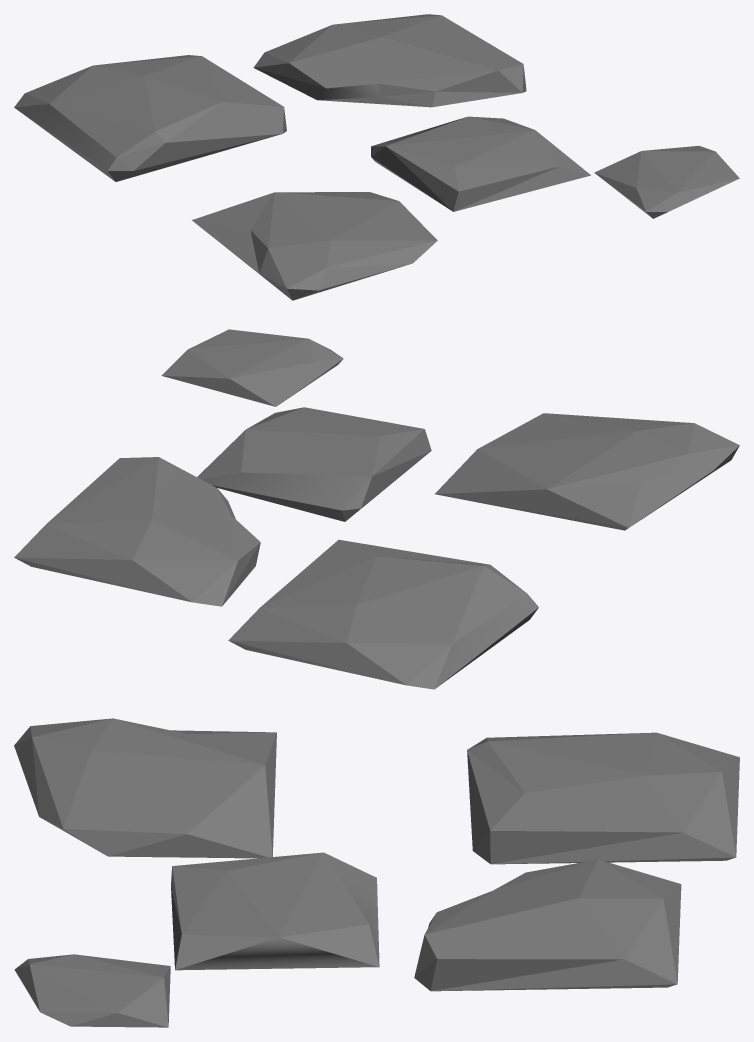
The model's file is Tile_02.fbx.
3 renders of one model, top to bottom at view 1: azimuth 30°, elevation 25°; view 2: azimuth 150°, elevation 25°; view 3: azimuth 270°, elevation 25°, orthographic. The views are drawn at different scales.
Visible parts, largest first — view 1: Tile_02; view 2: Tile_02; view 3: Tile_02.
Boxes of the visible parts, x1,y1,x2,y2 form: Tile_02: (14, 14, 739, 300); Tile_02: (14, 329, 739, 689); Tile_02: (14, 718, 739, 1027).
Bounding box in the file's own units: 1.54 × 0.138 × 1.64.
